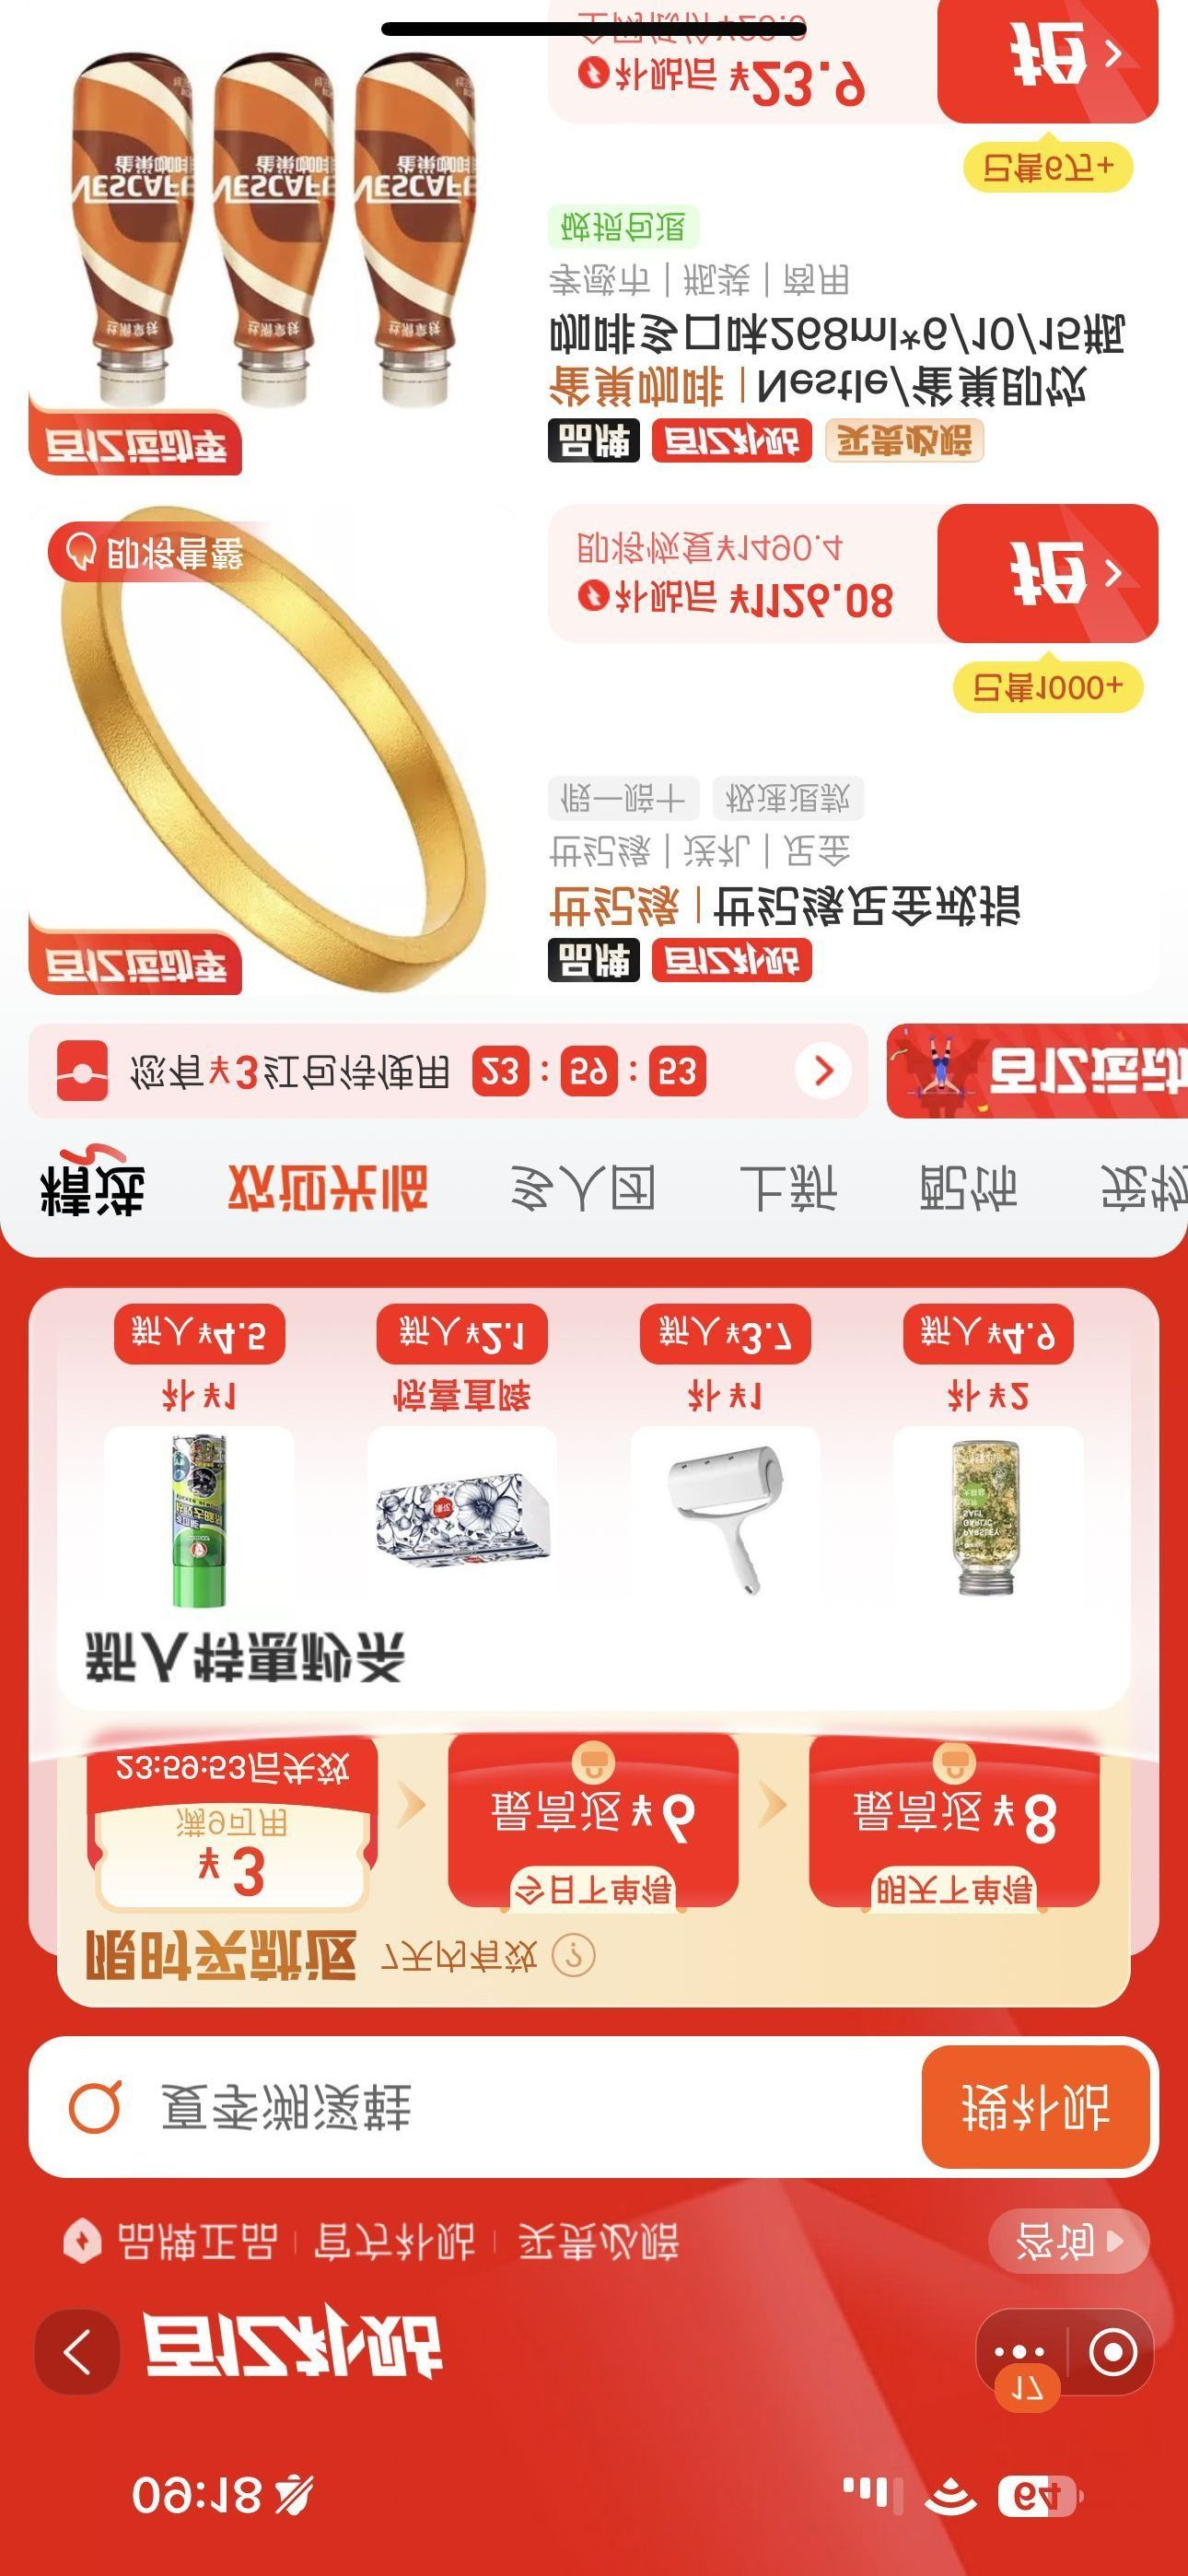item: (20, 491, 1183, 1014), (5, 8, 1181, 472)
op_bar: (3, 2282, 1188, 2441)
seckill: (3, 1265, 1188, 2032)
